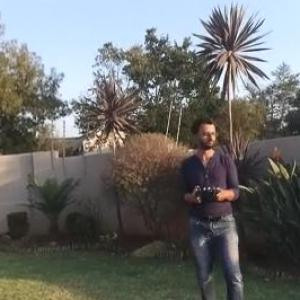follow: (182, 114, 252, 299)
